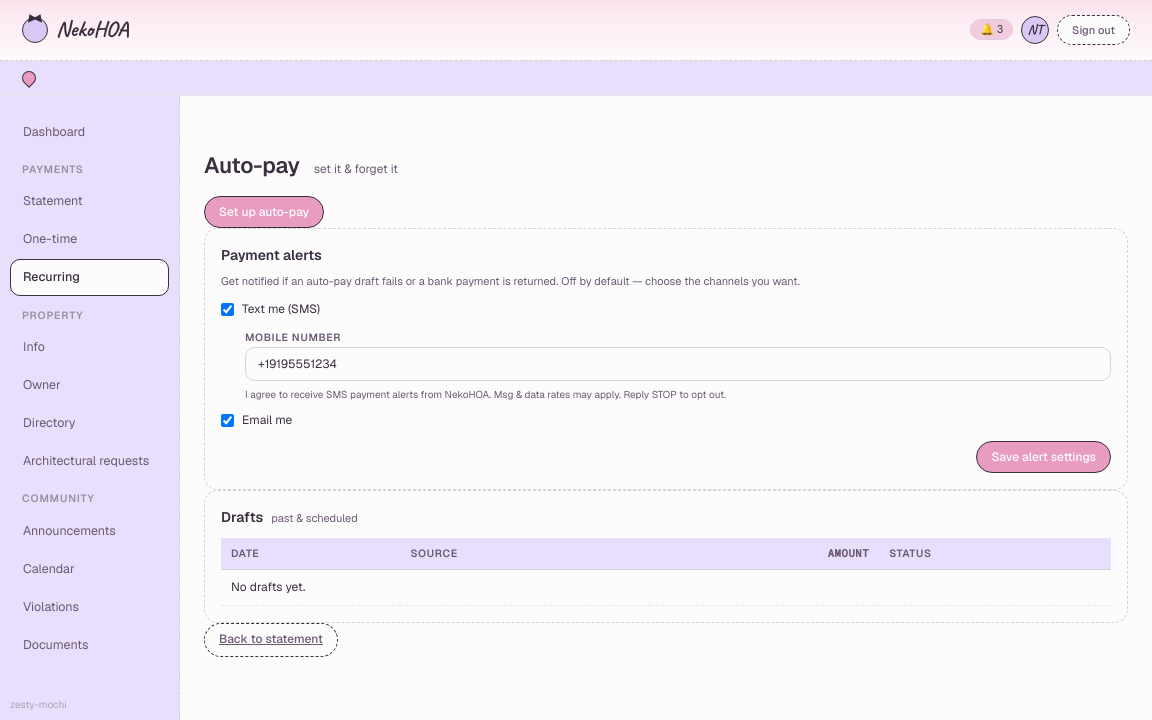
Test case: Payment alert preferences (opt-in / opt-out) › opts out by clearing both channels
Uncheck the checkbox with test id "sms-toggle" at [228, 310], box [221,303,234,316]
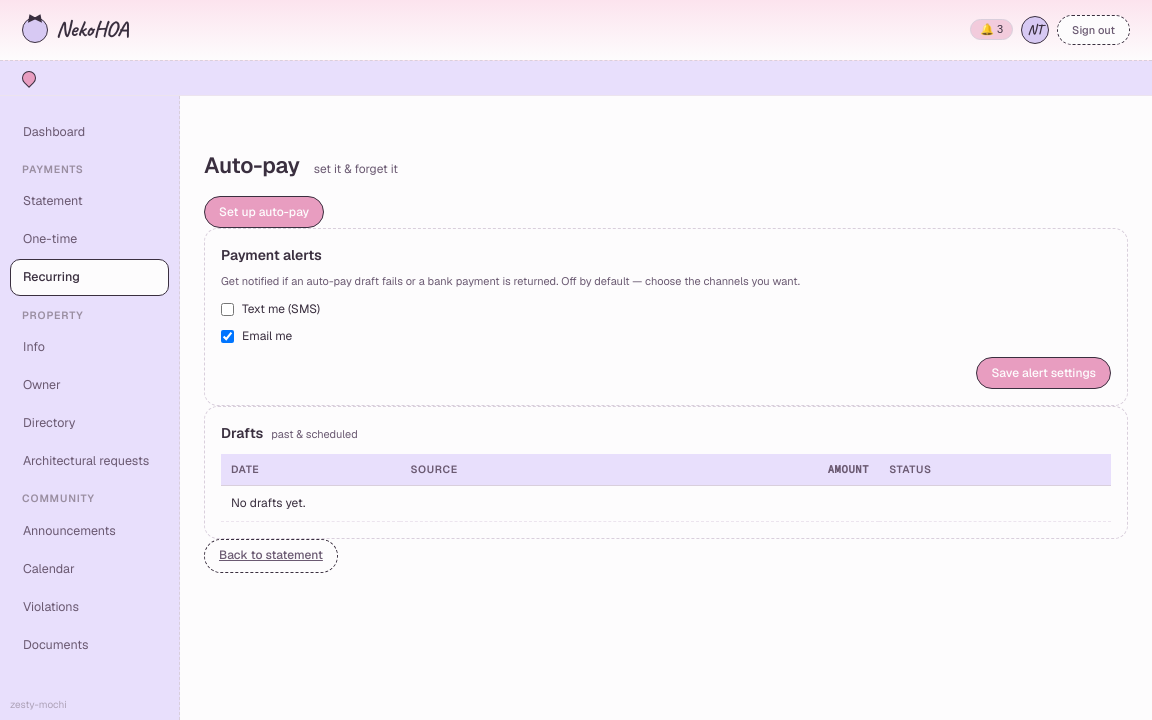
Uncheck the checkbox with test id "email-toggle" at [228, 337], box [221,330,234,343]
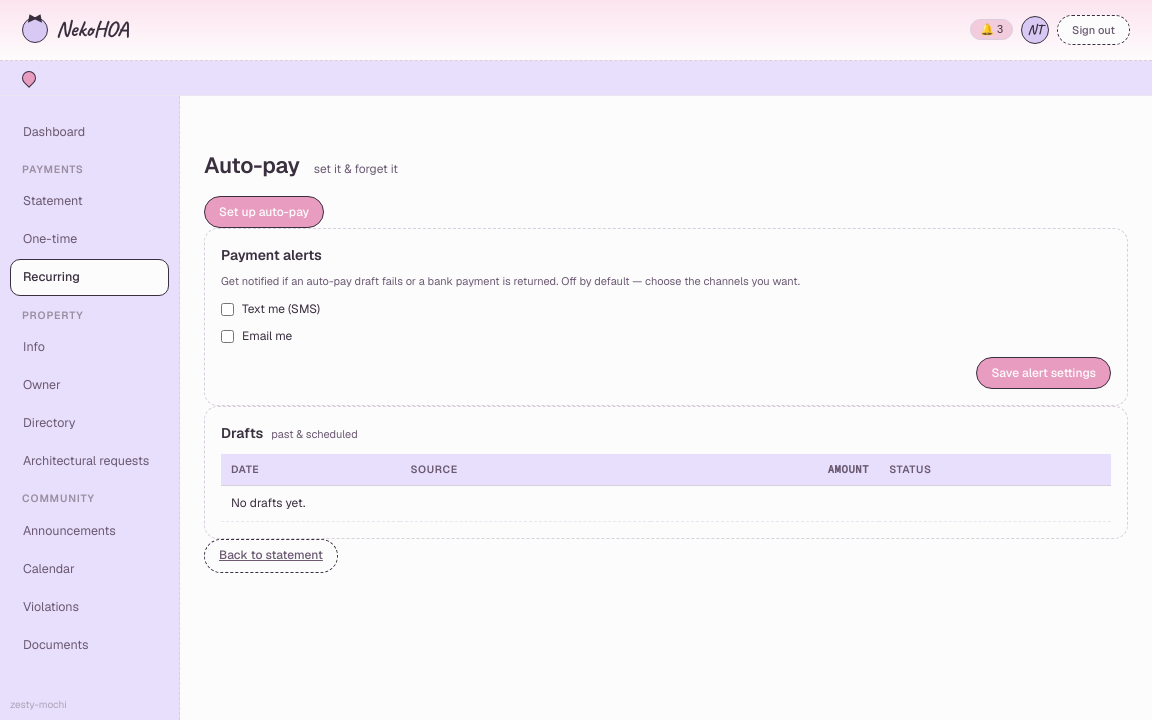
Click the button with test id "alerts-save" at [1044, 374], box [976,358,1111,390]
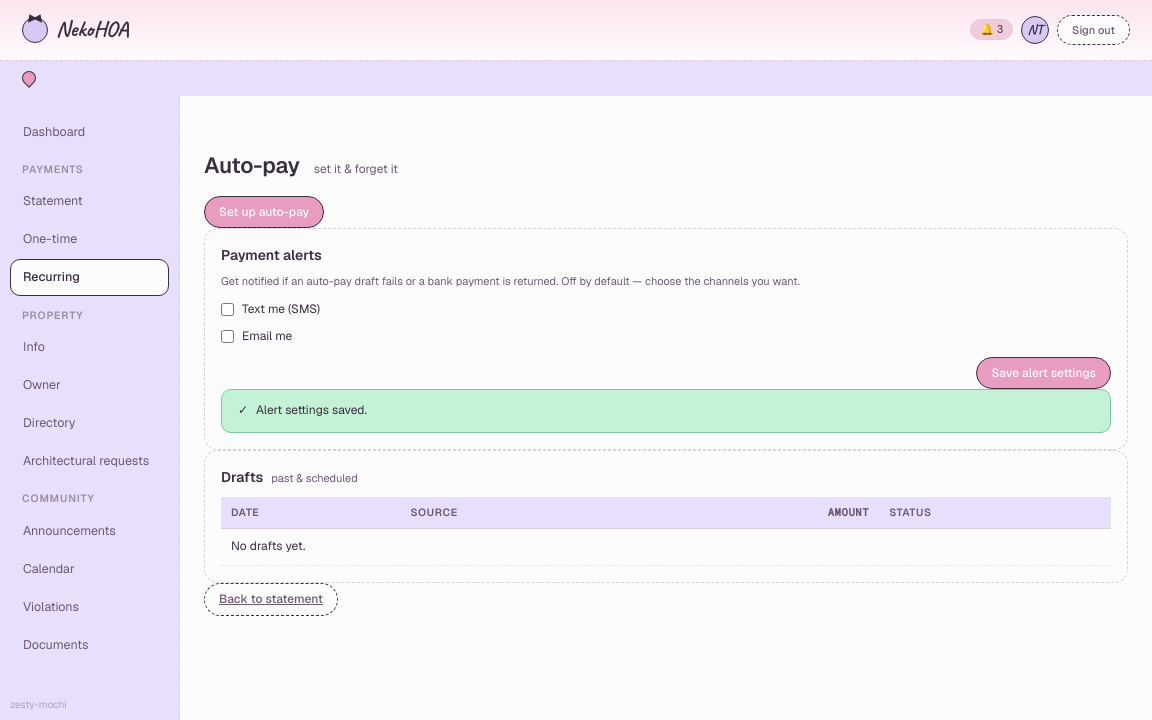
Expected: the message "✓ Alert settings saved." is shown, [221,390,1111,433]
